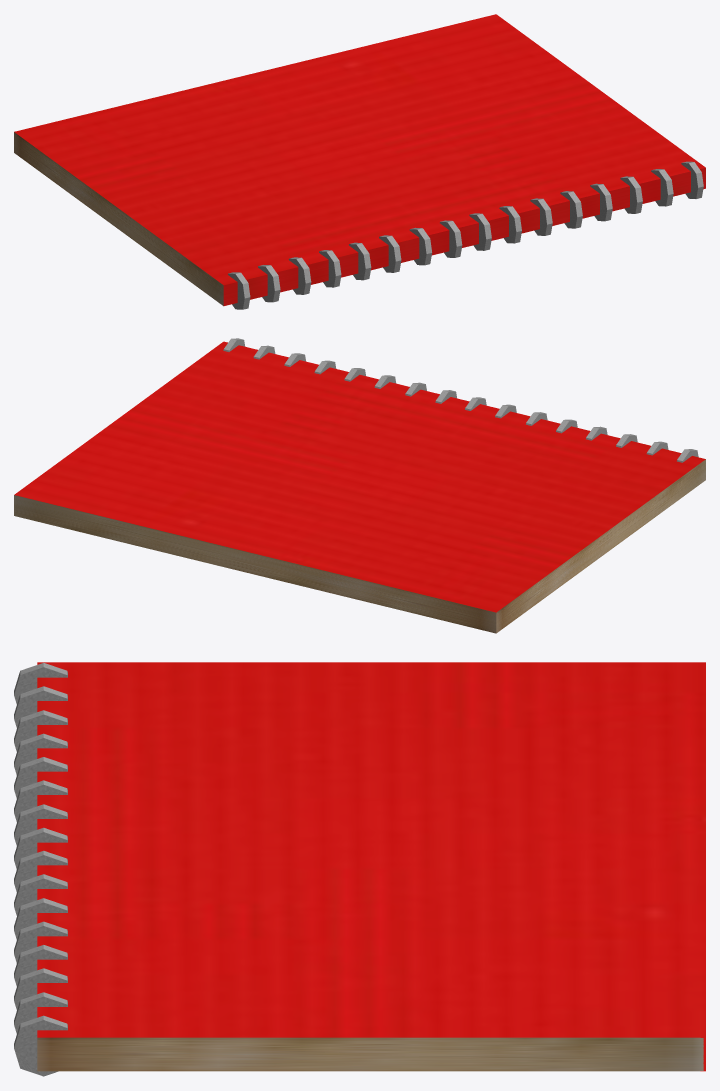
File: notebook002.fbx
The picture shows the model from 3 angles, top to bottom: view 1: azimuth 30°, elevation 25°; view 2: azimuth 150°, elevation 25°; view 3: azimuth 270°, elevation 25°; orthographic projection. The views are drawn at different scales.
Parts seen in each view (by area): view 1: Cube; view 2: Cube; view 3: Cube.
Boxes of the visible parts, x1,y1,x2,y2 form: Cube: [14, 14, 705, 309]; Cube: [14, 338, 705, 633]; Cube: [14, 662, 705, 1076].
Bounding box in the file's own units: 250 × 17.54 × 194.
17 materials, 17 textured.
